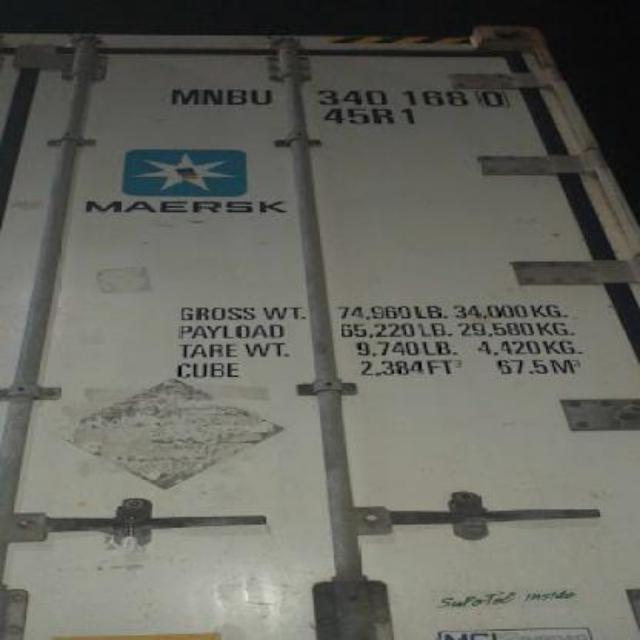0: (364, 80, 388, 108), (476, 86, 509, 106)
1: (394, 83, 420, 107)
3: (316, 83, 342, 107)
4: (338, 80, 366, 108)
6: (422, 85, 444, 109)
8: (440, 85, 470, 109)
B: (222, 85, 252, 109)
M: (161, 85, 197, 109)
N: (196, 86, 228, 110)
U: (248, 82, 274, 110)
